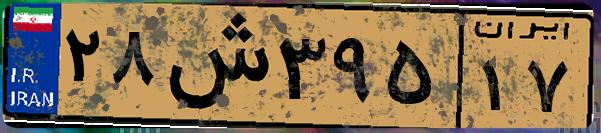1: (475, 38, 525, 113)
2: (57, 26, 110, 100)
3: (270, 28, 330, 110)
5: (385, 28, 445, 110)
7: (525, 38, 570, 115)
8: (110, 28, 158, 98)
9: (330, 28, 385, 110)
ش: (158, 12, 270, 120)
